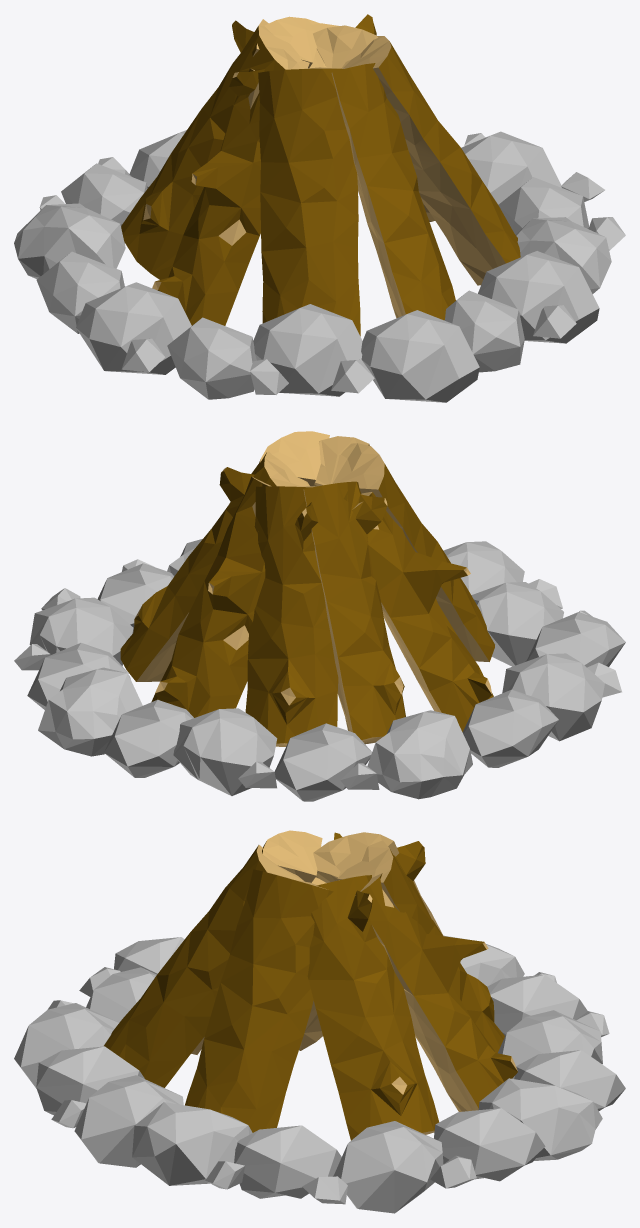
Rendered from Campfire_Tiki 1.fbx.
The picture shows the model from 3 angles, top to bottom: view 1: azimuth 30°, elevation 25°; view 2: azimuth 150°, elevation 25°; view 3: azimuth 270°, elevation 25°; orthographic projection. The views are drawn at different scales.
Visible parts, largest first — view 1: Campfire_Tiki; view 2: Campfire_Tiki; view 3: Campfire_Tiki.
Boxes of the visible parts, box(x1,y1,x2,y2) form: Campfire_Tiki: box(14, 14, 625, 402); Campfire_Tiki: box(14, 431, 625, 801); Campfire_Tiki: box(14, 830, 625, 1213).
Bounding box in the file's own units: 36.12 × 16.7 × 35.71.
